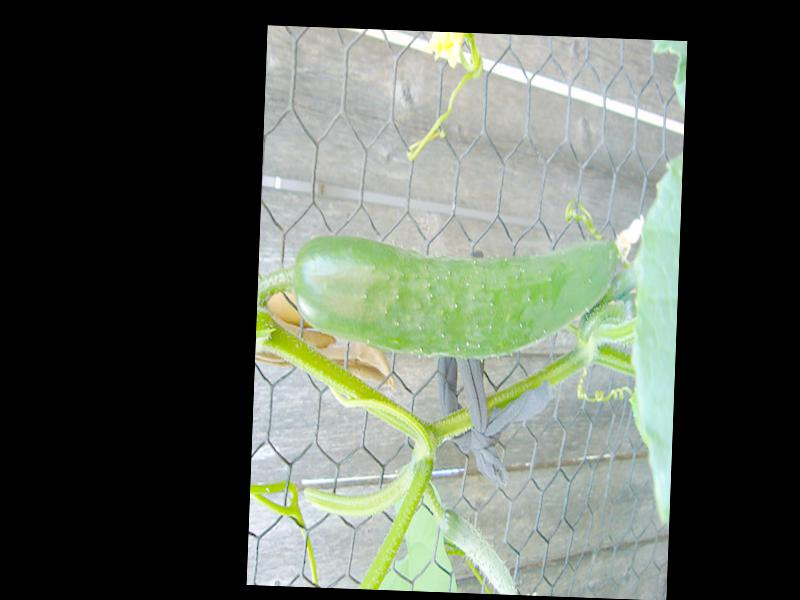Cucumber: (290, 226, 617, 365)
